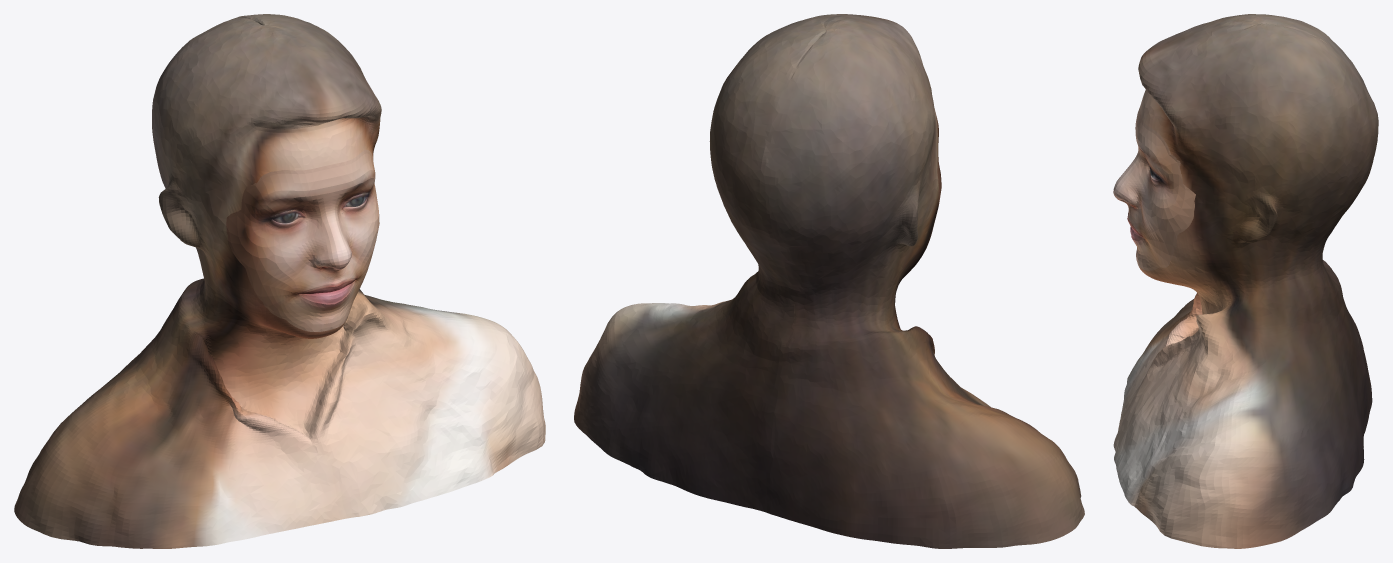
Rendered from UtsavBody.obj.
3 renders of one model, left to right at view 1: azimuth 30°, elevation 25°; view 2: azimuth 150°, elevation 25°; view 3: azimuth 270°, elevation 25°, orthographic. The views are drawn at different scales.
Size of the model in its own units: 0.4661 by 0.3929 by 0.2301.
